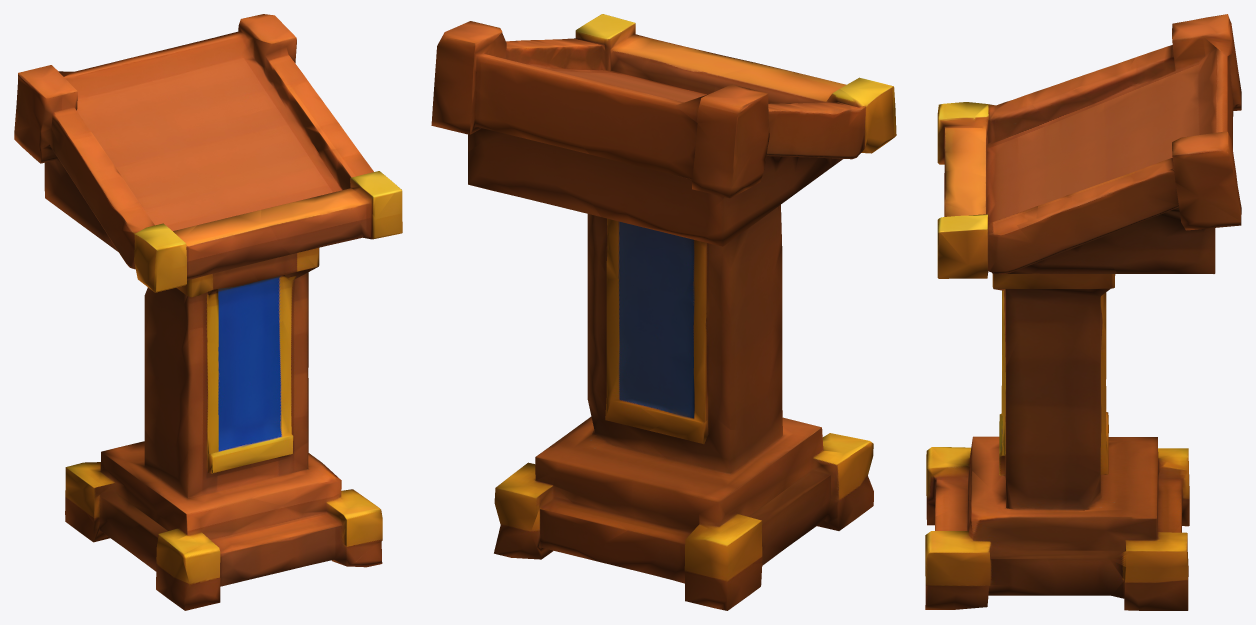
The model's file is court-lectern.glb.
3 renders of one model, left to right at view 1: azimuth 30°, elevation 25°; view 2: azimuth 150°, elevation 25°; view 3: azimuth 270°, elevation 25°, orthographic. The views are drawn at different scales.
Visible parts, largest first — view 1: tripo_node_f6aa861a-bc4f-49f5-ad98-56a3f52af79a; view 2: tripo_node_f6aa861a-bc4f-49f5-ad98-56a3f52af79a; view 3: tripo_node_f6aa861a-bc4f-49f5-ad98-56a3f52af79a.
Boxes of the visible parts, box(x1,y1,x2,y2) form: tripo_node_f6aa861a-bc4f-49f5-ad98-56a3f52af79a: box(14, 14, 402, 610); tripo_node_f6aa861a-bc4f-49f5-ad98-56a3f52af79a: box(431, 14, 896, 610); tripo_node_f6aa861a-bc4f-49f5-ad98-56a3f52af79a: box(925, 14, 1241, 610).
Bounding box in the file's own units: 0.45 × 0.75 × 0.45.
1 material, 1 textured.
